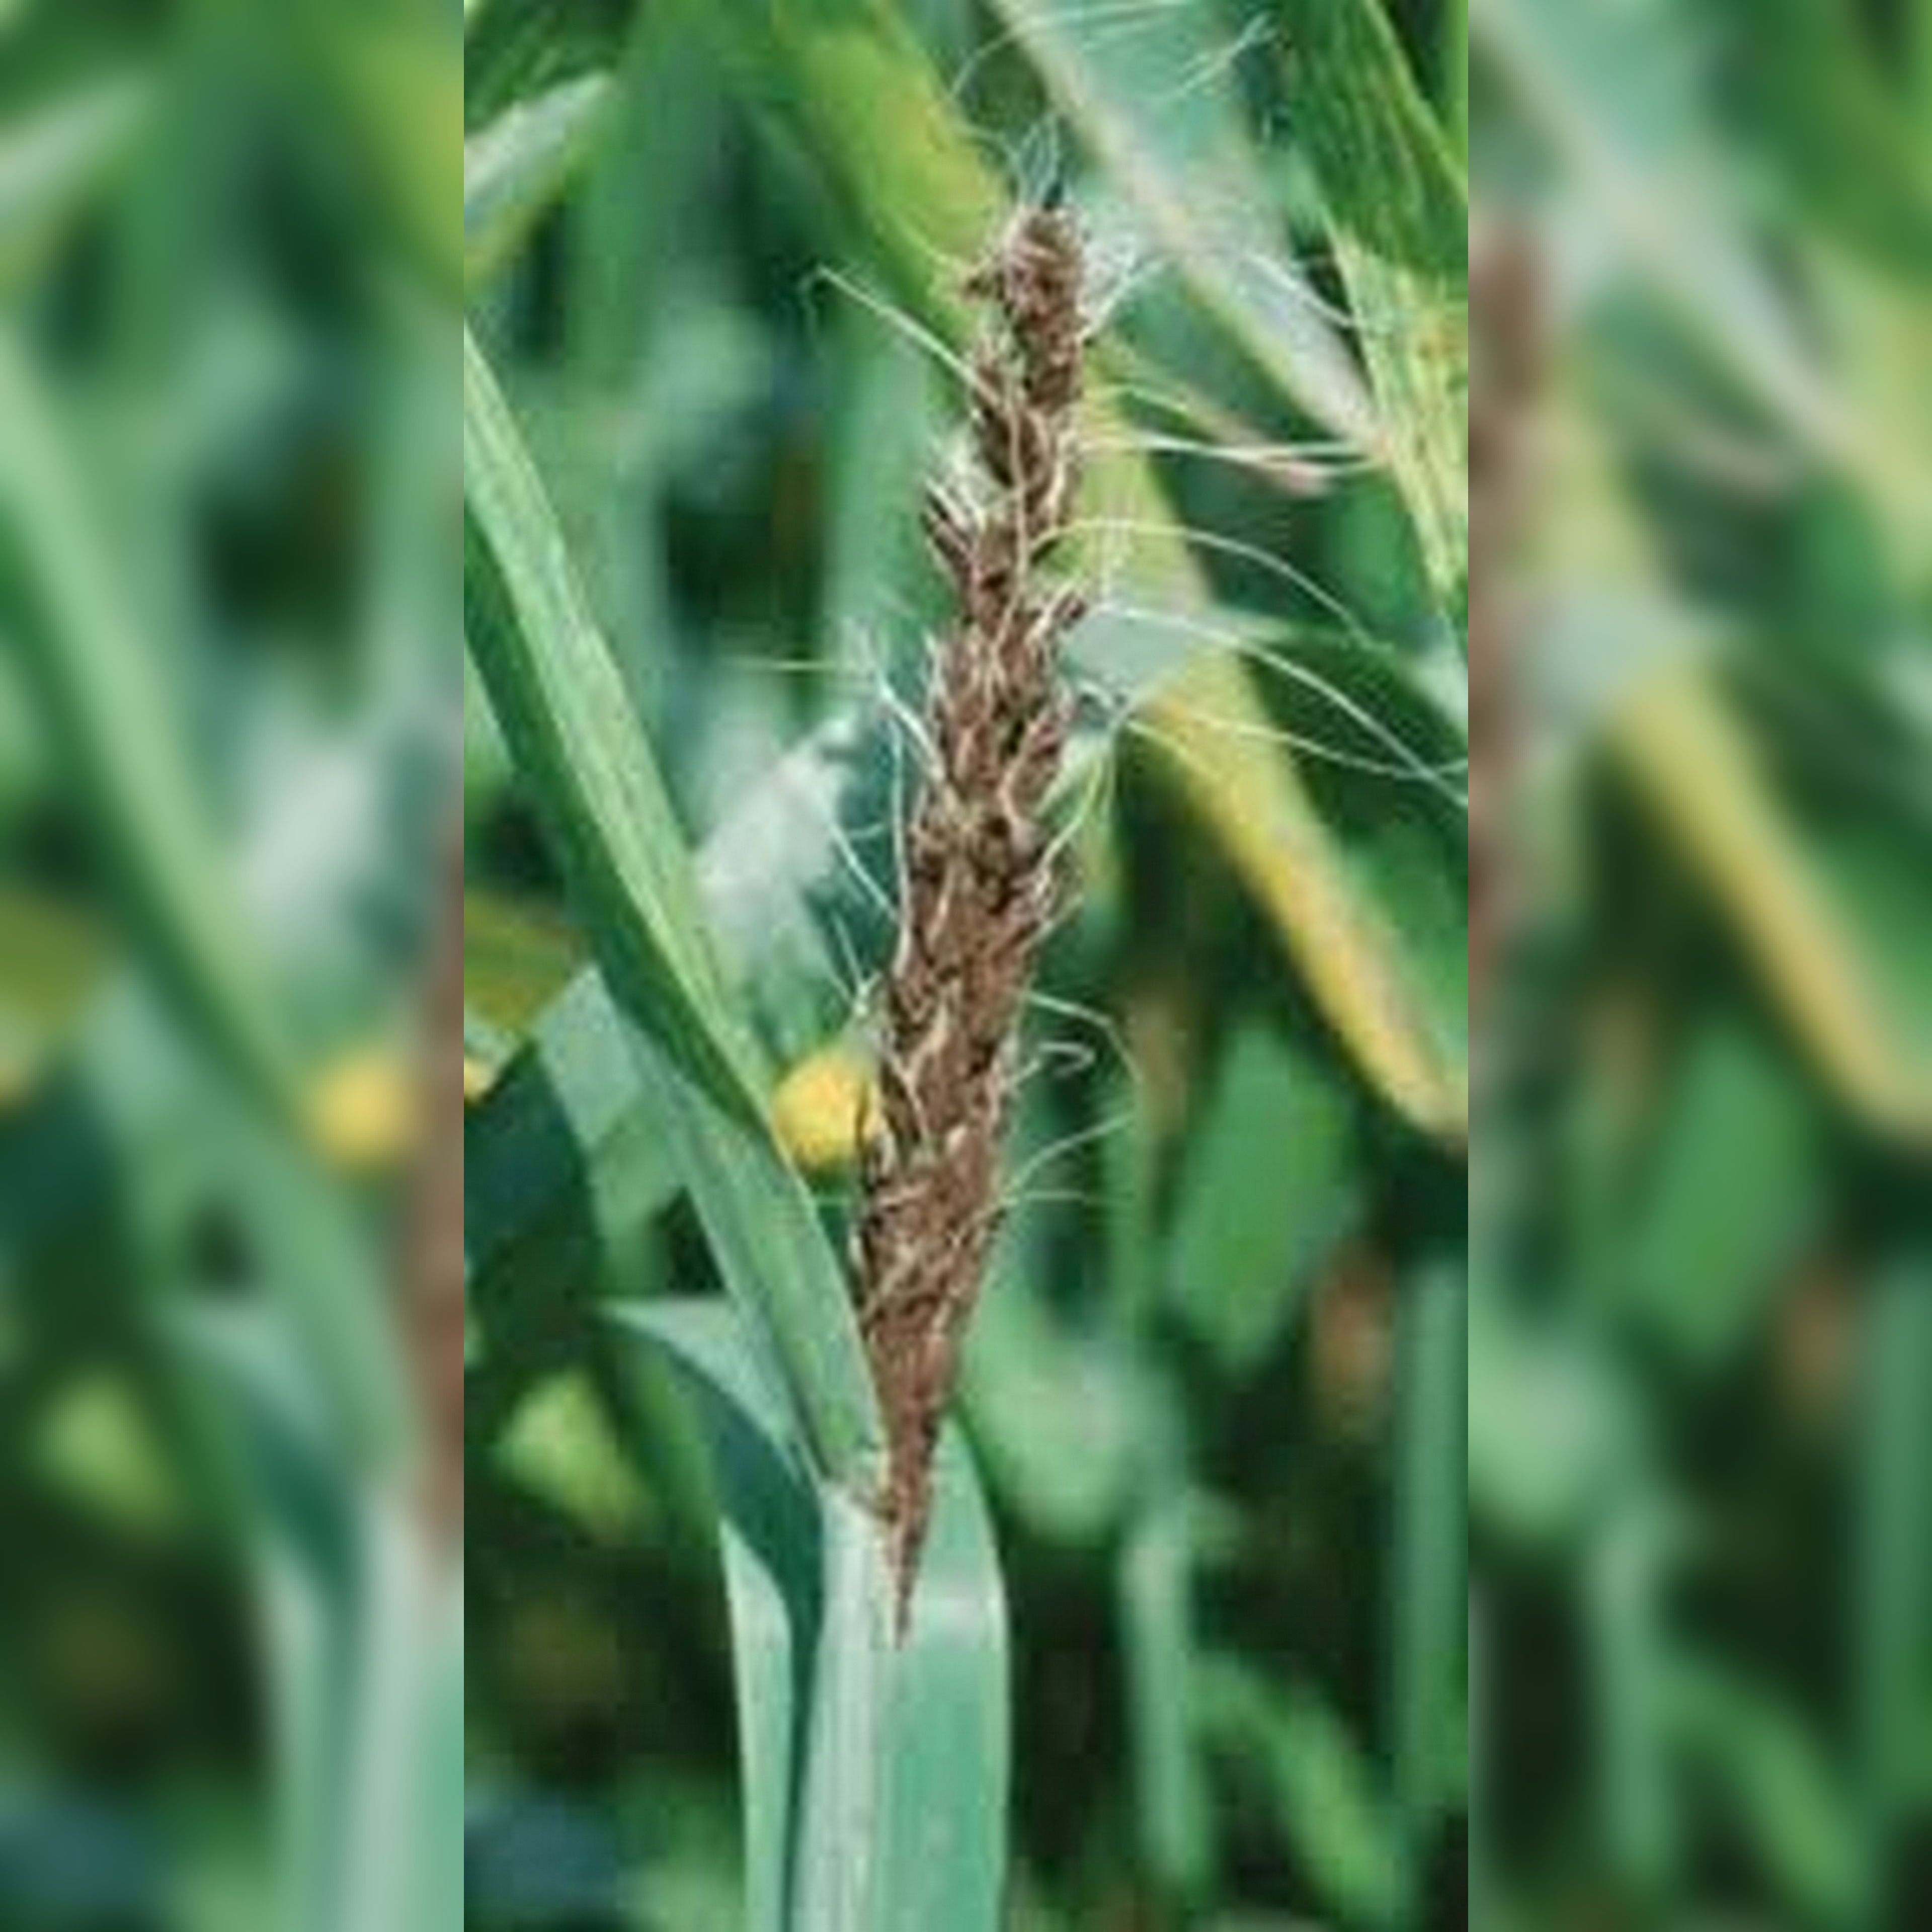Wheat Loose Smut: (823, 188, 1175, 1392)
